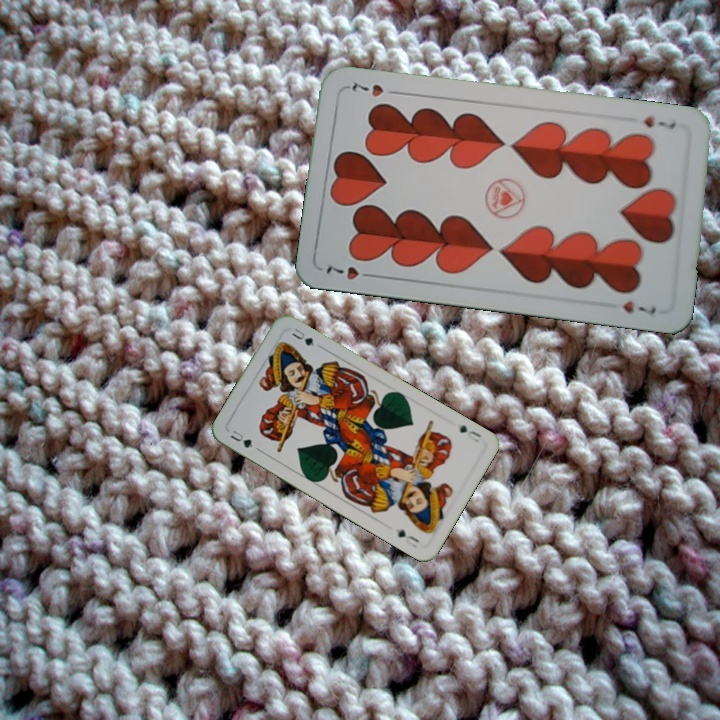GU: (226, 426, 256, 451), (455, 420, 484, 445)
H7: (322, 262, 379, 283), (640, 112, 678, 132)
